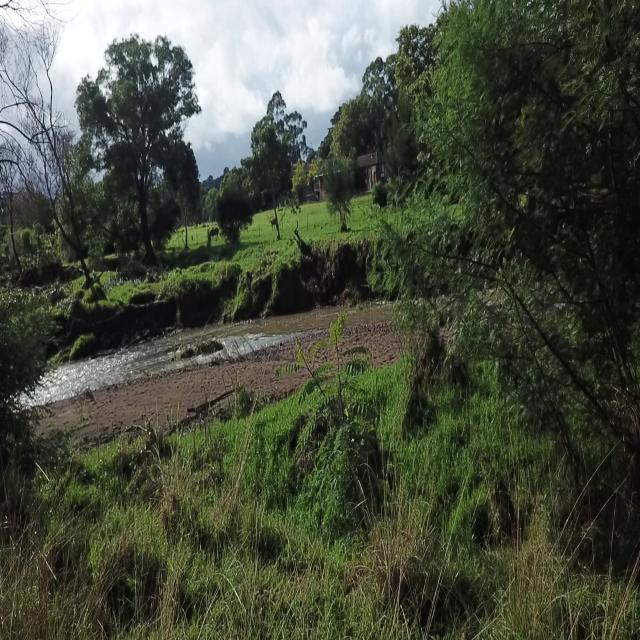Mysore-Thorn-Weed: (271, 309, 384, 476)
